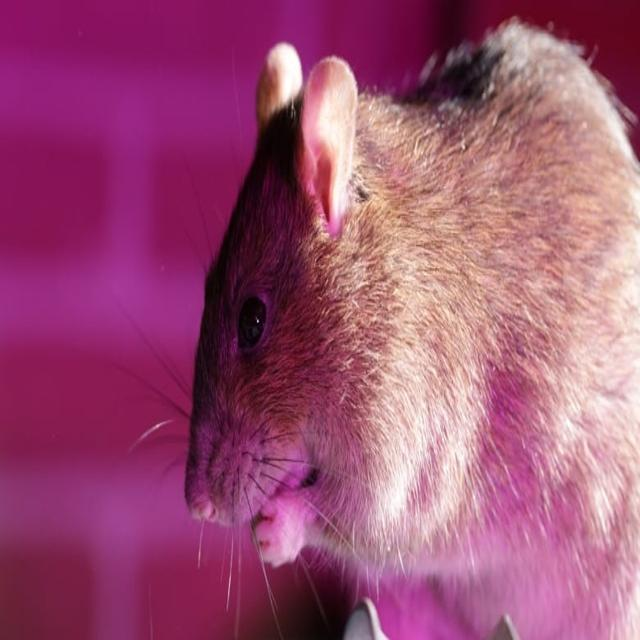rat: (185, 20, 640, 640)
